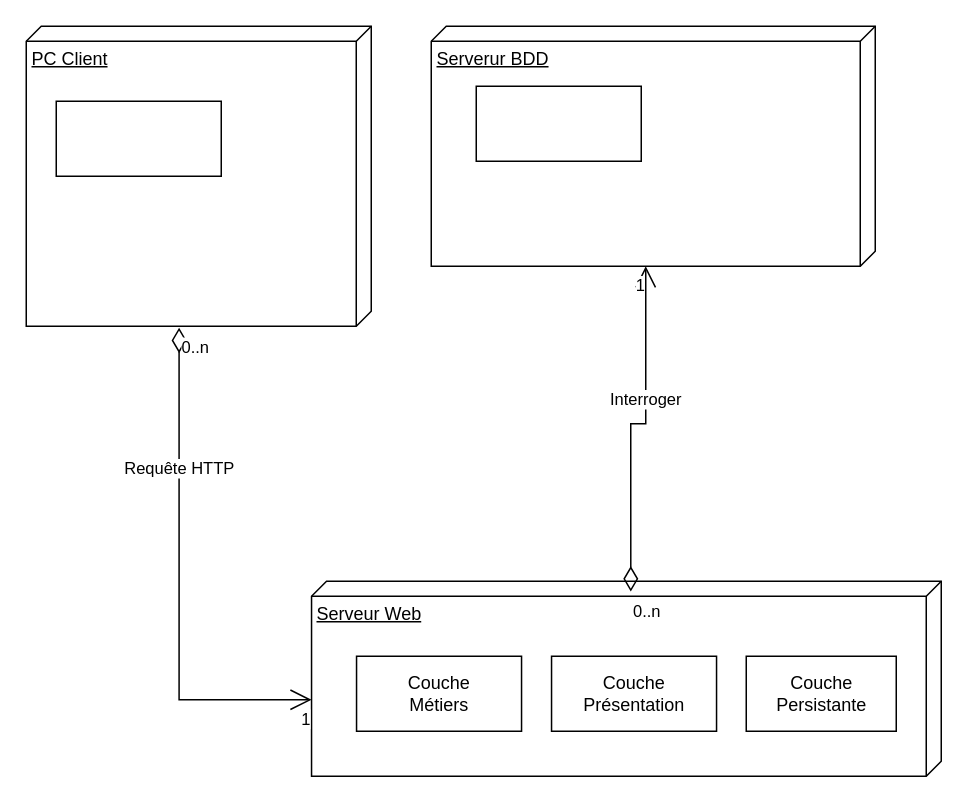
Some shapes in this 968 by 803 pixel diagram are drawn without their labels. Each missing label, with the centre of its shape:
MySQL: (558,123)
Navigateur: (138,138)
